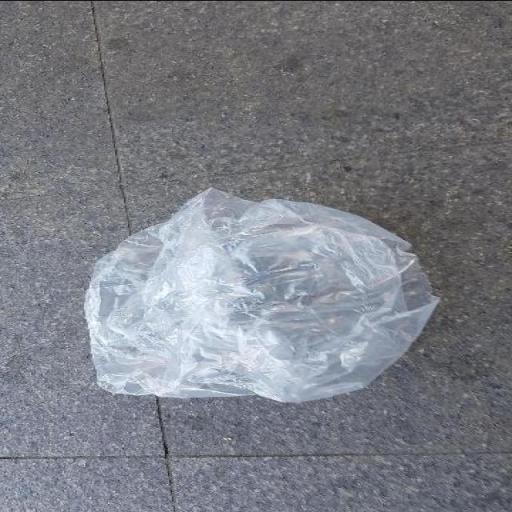plastic-bag: (80, 184, 447, 406)
